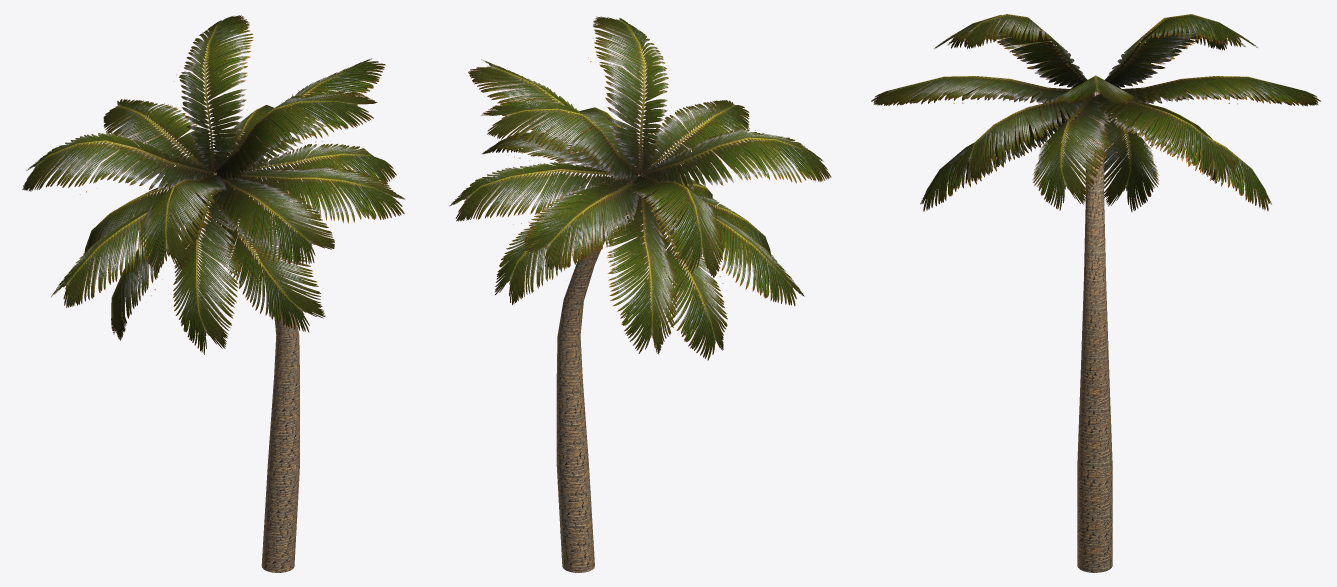
The model's file is Palmboom2.fbx.
3 views of the same model, side by side, from view 1: azimuth 30°, elevation 25°; view 2: azimuth 150°, elevation 25°; view 3: azimuth 270°, elevation 25° (orthographic). The views are drawn at different scales.
Visible parts, largest first — view 1: pPlane9, pCylinder1; view 2: pPlane9, pCylinder1; view 3: pPlane9, pCylinder1.
Part boxes in pixels (bbox=[...]): pPlane9: bbox=[22, 15, 404, 354]; pCylinder1: bbox=[212, 172, 299, 572]; pPlane9: bbox=[449, 16, 831, 360]; pCylinder1: bbox=[556, 175, 645, 572]; pPlane9: bbox=[871, 14, 1320, 212]; pCylinder1: bbox=[1077, 91, 1112, 572].
Size of the model in its own units: 10.66 by 15.2 by 11.47.
Materials: 2 (2 with a texture image).
